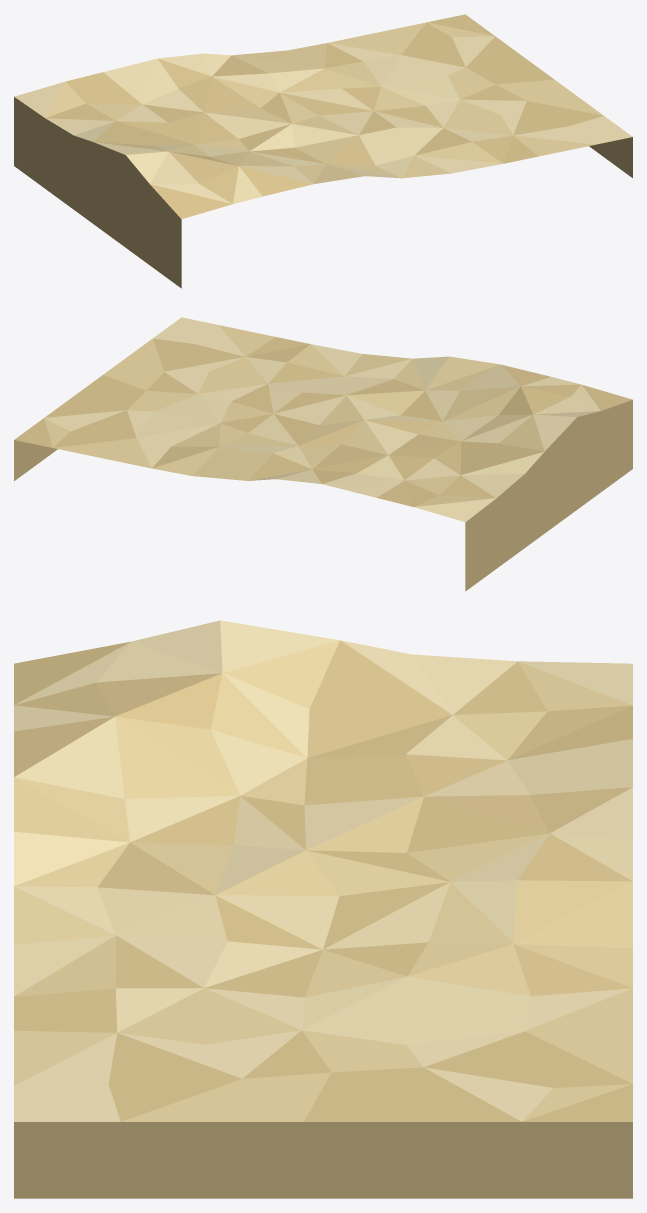
The model's file is playa_teselada_clara.obj.
3 views of the same model, one above another, from view 1: azimuth 30°, elevation 25°; view 2: azimuth 150°, elevation 25°; view 3: azimuth 270°, elevation 25° (orthographic). The views are drawn at different scales.
Parts seen in each view (by area): view 1: playa_teselada_clara; view 2: playa_teselada_clara; view 3: playa_teselada_clara.
Boxes of the visible parts, x1,y1,x2,y2 form: playa_teselada_clara: (14, 14, 632, 288); playa_teselada_clara: (14, 317, 632, 591); playa_teselada_clara: (14, 620, 632, 1198).
Bounding box in the file's own units: 14 × 2.75 × 9.
